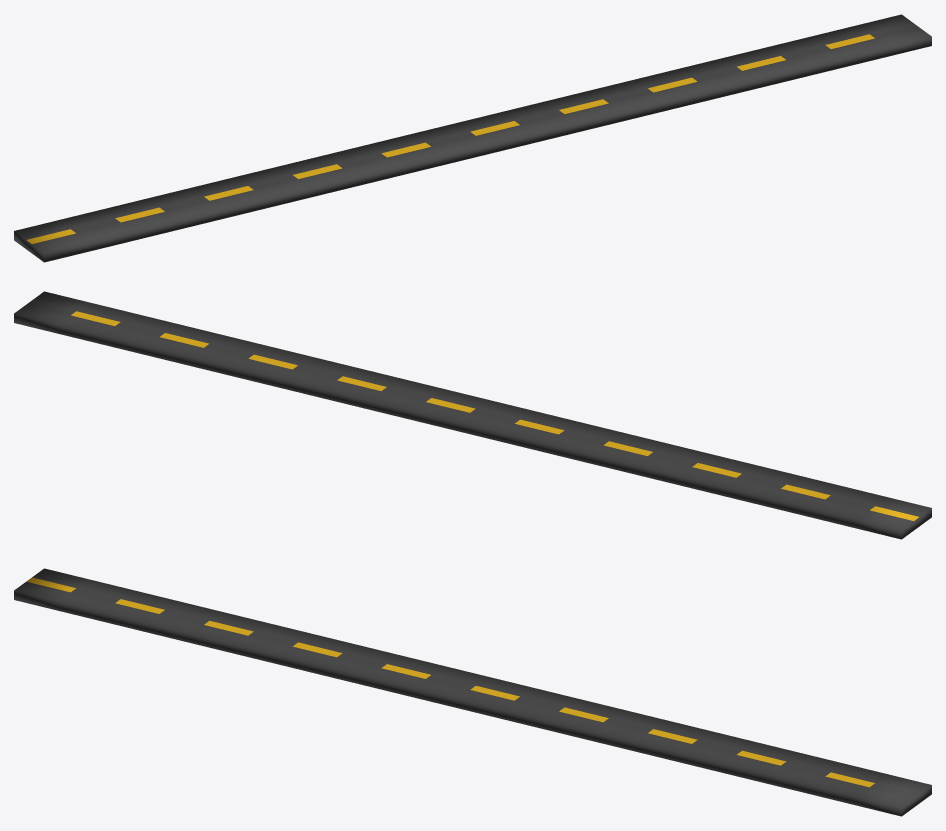
File: Road.fbx
The picture shows the model from 3 angles, top to bottom: view 1: azimuth 30°, elevation 25°; view 2: azimuth 150°, elevation 25°; view 3: azimuth 330°, elevation 25°; orthographic projection.
Parts seen in each view (by area): view 1: Asphalt; view 2: Asphalt; view 3: Asphalt.
Part boxes in pixels (<box>): Asphalt: <box>14,14,931,262</box>; Asphalt: <box>14,291,931,539</box>; Asphalt: <box>14,568,931,816</box>.
Bounding box in the file's own units: 5339 × 54 × 316.
